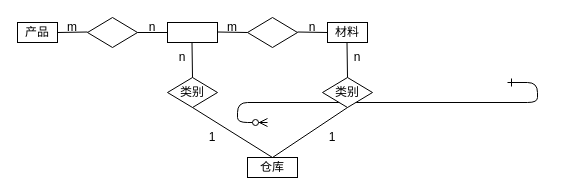
Image size: 564x195. Some labels were removed from this diagram. The centre of each missing label's shape, as x and y in pixels:
"制作" goes at (x=272, y=32).
"组成" goes at (x=112, y=32).
"零件" goes at (x=192, y=32).
